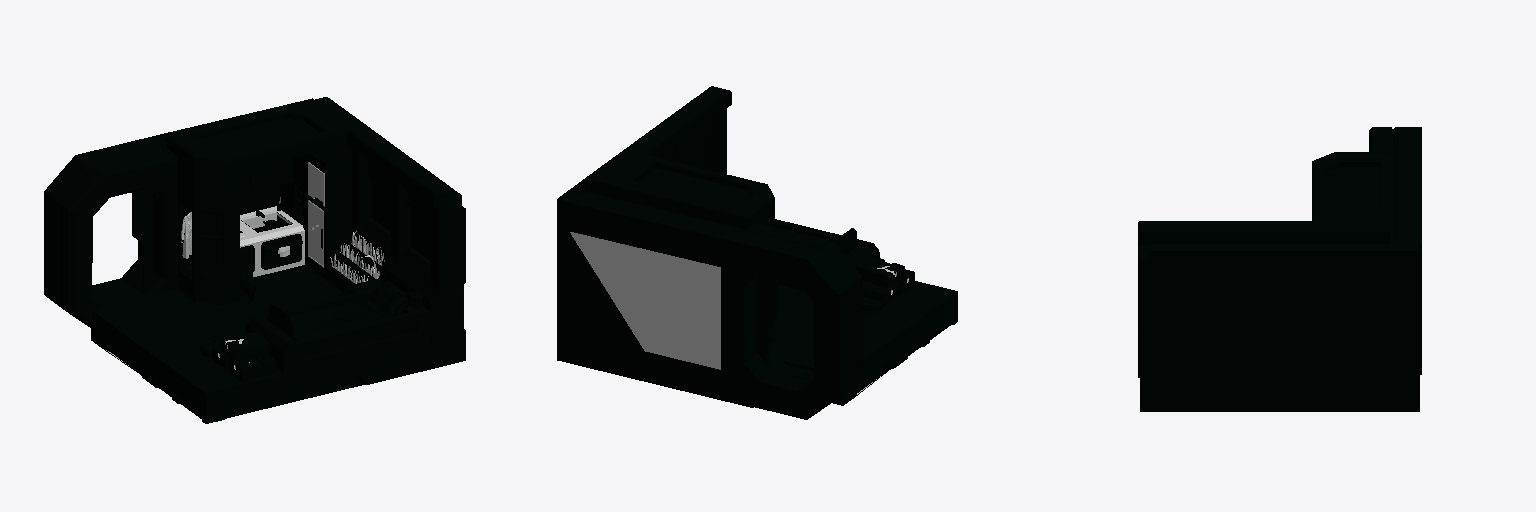
Rendered from apt.obj.
3 renders of one model, left to right at view 1: azimuth 30°, elevation 25°; view 2: azimuth 150°, elevation 25°; view 3: azimuth 270°, elevation 25°, orthographic.
Visible parts, largest first — view 1: Object_5_Object_1, Object_4_Object_0; view 2: Object_5_Object_1, Object_4_Object_0; view 3: Object_5_Object_1.
Boxes of the visible parts, box(x1,y1,x2,y2) form: Object_5_Object_1: box(44, 97, 465, 423); Object_4_Object_0: box(106, 162, 384, 369); Object_5_Object_1: box(557, 86, 957, 419); Object_4_Object_0: box(570, 232, 908, 394); Object_5_Object_1: box(1138, 127, 1421, 411).
Bounding box in the file's own units: 3.25 × 1.94 × 2.84.